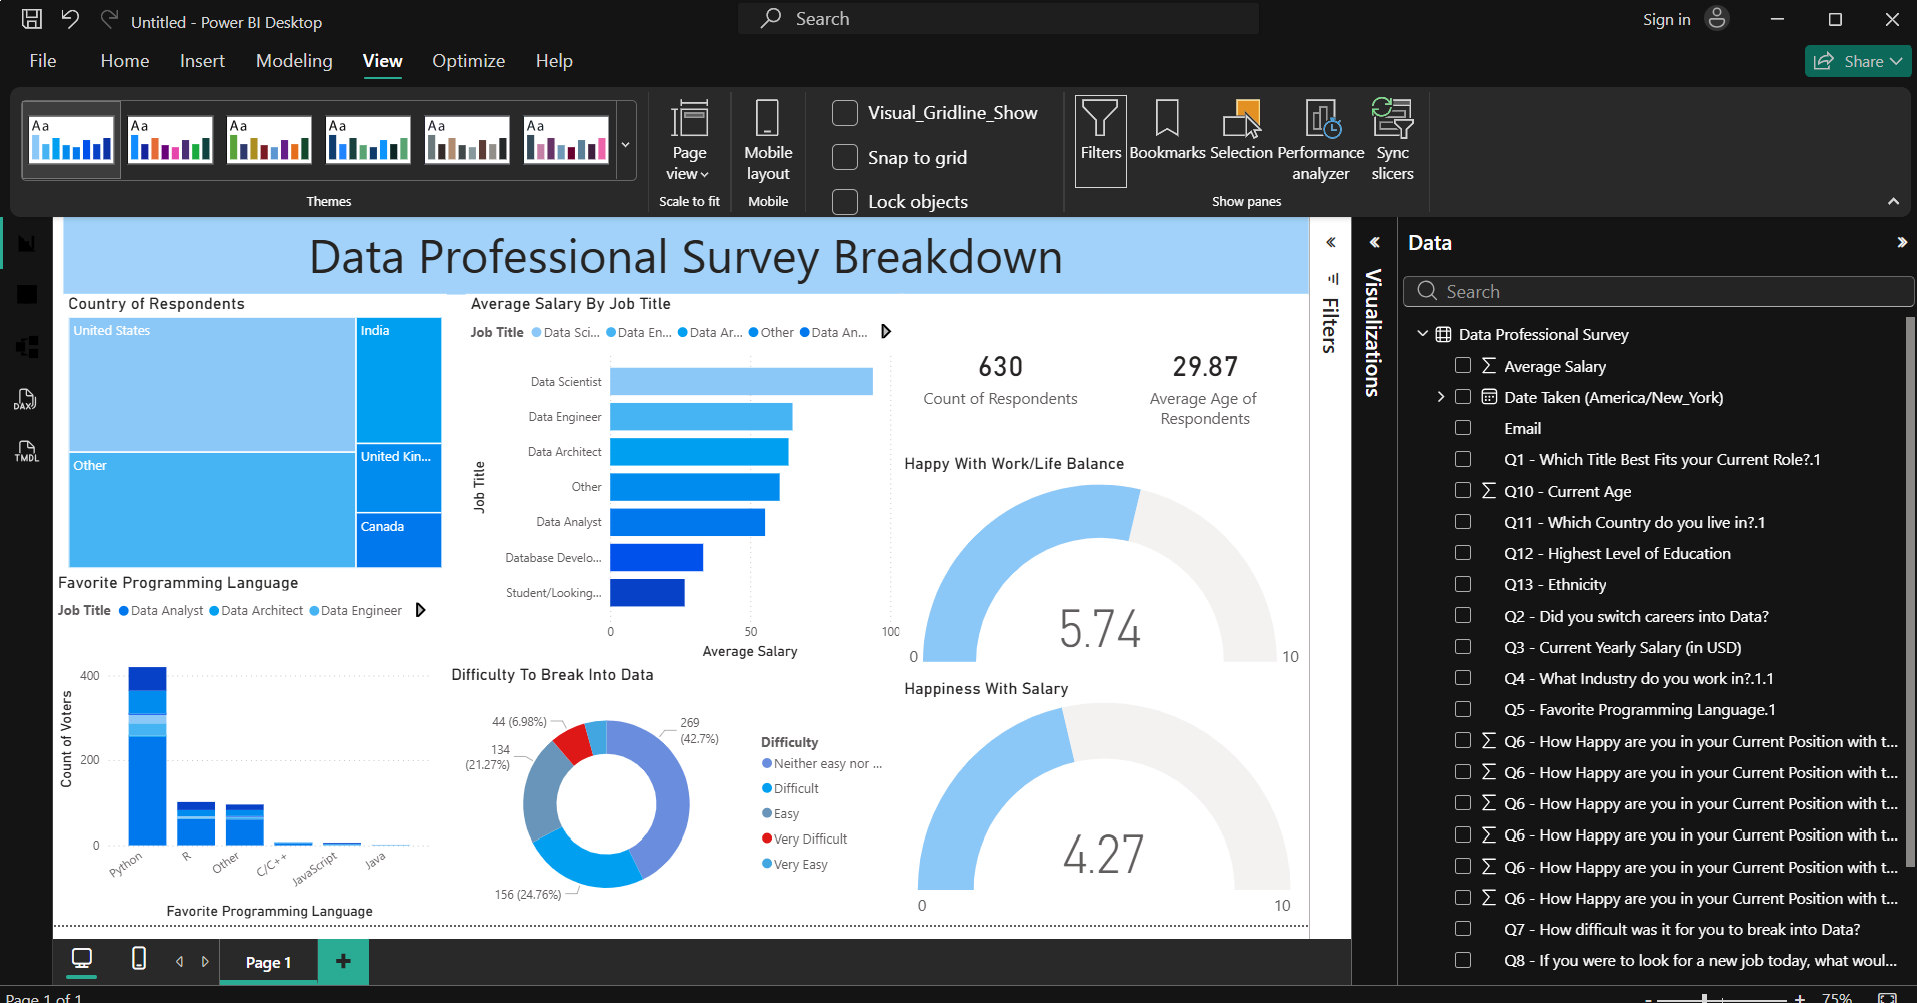

This screenshot's page, from the dashboard's own definition file:
{"tool":"powerbi","page":{"name":"Page 1","canvas":[1280,720],"ordinal":0},"visuals":[{"type":"textbox","box":[10.3,0,1269.3,79.2],"z":0},{"type":"card","fields":{"Values":["CountNonNull(Data Professional Survey.Unique ID)"]},"box":[862.8,78.7,205.5,163.2],"z":1},{"type":"card","fields":{"Values":["Avg(Data Professional Survey.Q10 - Current Age)"]},"box":[1068.3,78.7,211.3,163.2],"z":2},{"type":"barChart","title":"Average Salary By Job Title","fields":{"Category":["Data Professional Survey.Q1 - Which Title Best Fits your Current Role?.1"],"Y":["Avg(Data Professional Survey.Average Salary)"],"Series":["Data Professional Survey.Q1 - Which Title Best Fits your Current Role?.1"]},"box":[421.2,78.7,447.4,377.5],"z":3},{"type":"columnChart","title":"Favorite Programming Language","fields":{"Category":["Data Professional Survey.Q5 - Favorite Programming Language.1"],"Y":["CountNonNull(Data Professional Survey.Unique ID)"],"Series":["Data Professional Survey.Q1 - Which Title Best Fits your Current Role?.1"]},"box":[0,362.9,389.1,357.1],"z":4},{"type":"treemap","title":"Country of Respondents ","fields":{"Group":["Data Professional Survey.Q11 - Which Country do you live in?.1"],"Values":["CountNonNull(Data Professional Survey.Q11 - Which Country do you live in?.1)"]},"box":[10.2,78.7,390.6,284.2],"z":5},{"type":"gauge","title":"Happy With Work/Life Balance","fields":{"Y":["Avg(Data Professional Survey.Q6 - How Happy are you in your Current Position with the following? (Work/Life Balance))"],"MinValue":["Min(Data Professional Survey.Q6 - How Happy are you in your Current Position with the following? (Work/Life Balance))1"],"MaxValue":["Max(Data Professional Survey.Q6 - How Happy are you in your Current Position with the following? (Work/Life Balance))2"]},"box":[862.8,241.9,416.8,228.8],"z":6},{"type":"gauge","title":"Happiness With Salary","fields":{"Y":["Avg(Data Professional Survey.Q6 - How Happy are you in your Current Position with the following? (Salary))"],"MinValue":["Min(Data Professional Survey.Q6 - How Happy are you in your Current Position with the following? (Salary))"],"MaxValue":["Max(Data Professional Survey.Q6 - How Happy are you in your Current Position with the following? (Salary))"]},"box":[862.8,470.7,416.8,249.2],"z":7},{"type":"donutChart","title":"Difficulty To Break Into Data","fields":{"Category":["Data Professional Survey.Q7 - How difficult was it for you to break into Data?"],"Y":["CountNonNull(Data Professional Survey.Q7 - How difficult was it for you to break into Data?)"]},"box":[400.8,456.2,462,263.8],"z":8}]}

Visuals, with their boxes on the page's 1280x720 design canvas (x1, y1, x2, y2). These are canvas units, not pixel positions in the 1917x1003 screenshot, which may show the page scaled, cropped or inside an application window:
textbox: 10,0,1280,79
card - CountNonNull(Data Professional Survey.Unique ID): 863,79,1068,242
card - Avg(Data Professional Survey.Q10 - Current Age): 1068,79,1280,242
"Average Salary By Job Title" barChart: 421,79,869,456
"Favorite Programming Language" columnChart: 0,363,389,720
"Country of Respondents " treemap: 10,79,401,363
"Happy With Work/Life Balance" gauge: 863,242,1280,471
"Happiness With Salary" gauge: 863,471,1280,720
"Difficulty To Break Into Data" donutChart: 401,456,863,720
